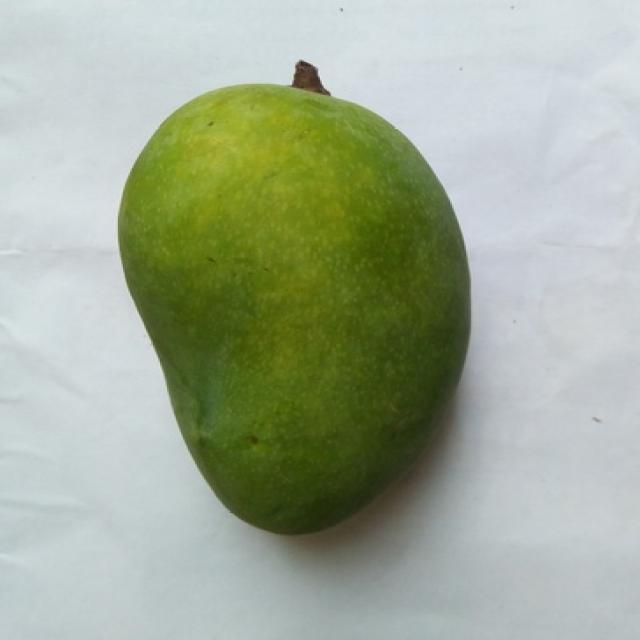Mango: (118, 63, 468, 534)
